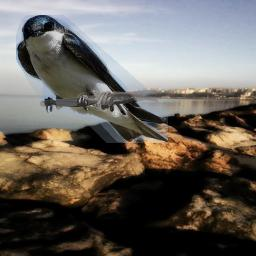Swallow: (16, 15, 168, 143)
